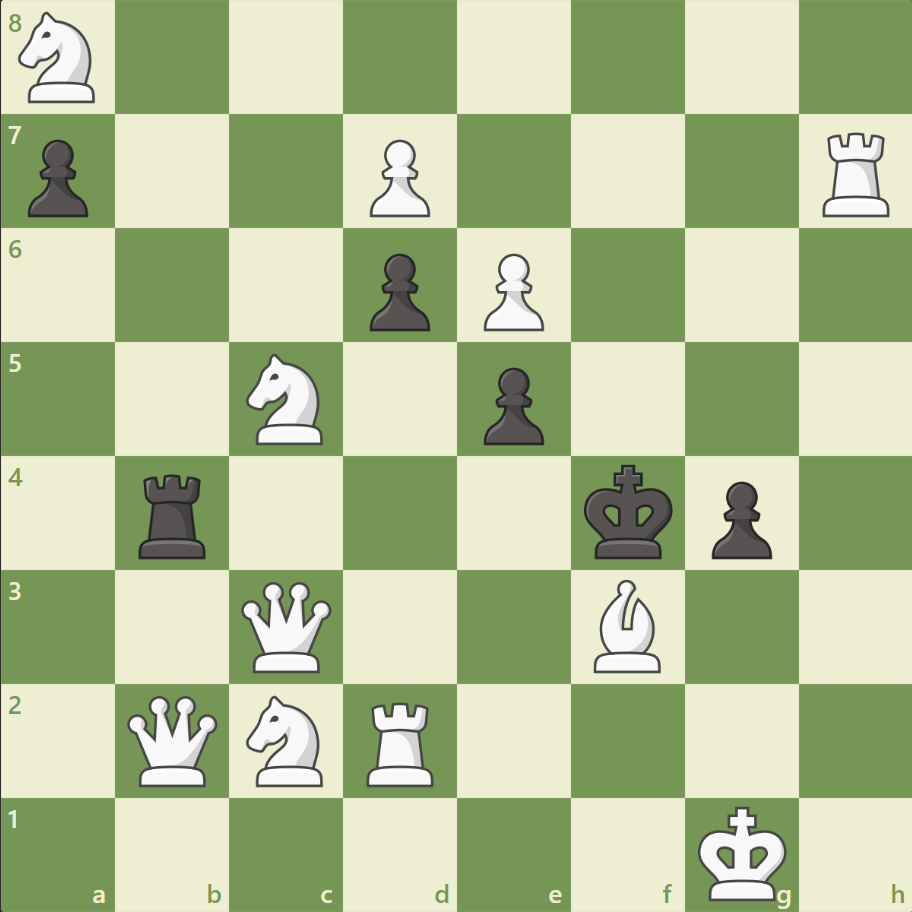B: (585, 574, 669, 676)
K: (692, 798, 792, 906)
N: (11, 7, 108, 110), (238, 688, 335, 791), (238, 348, 335, 450)
P: (474, 246, 549, 337), (361, 132, 435, 223)
Q: (237, 576, 336, 676), (124, 690, 223, 789)
R: (814, 125, 897, 222), (360, 693, 442, 790)
k: (579, 458, 679, 566)
p: (20, 132, 95, 223), (474, 359, 549, 450), (701, 473, 776, 564), (361, 246, 435, 337)
r: (133, 466, 215, 563)
